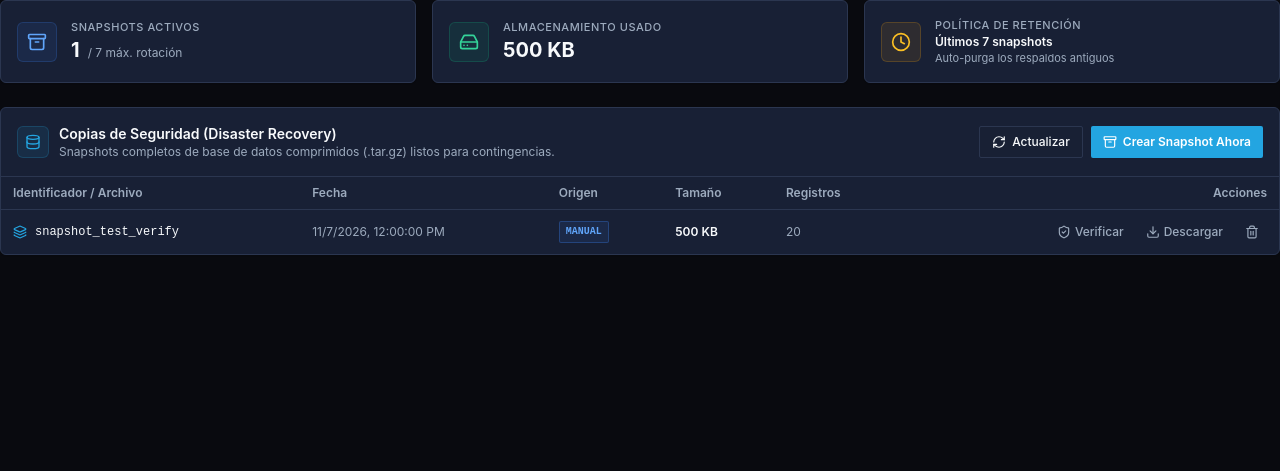
it: BackupManagerCard (Disaster Recovery) › verifies backup integrity on demand
Expected: the text "Verificar" is shown, [1075, 224, 1124, 240]
Click the button "Verificar" at (1090, 232), box [1049, 218, 1132, 246]
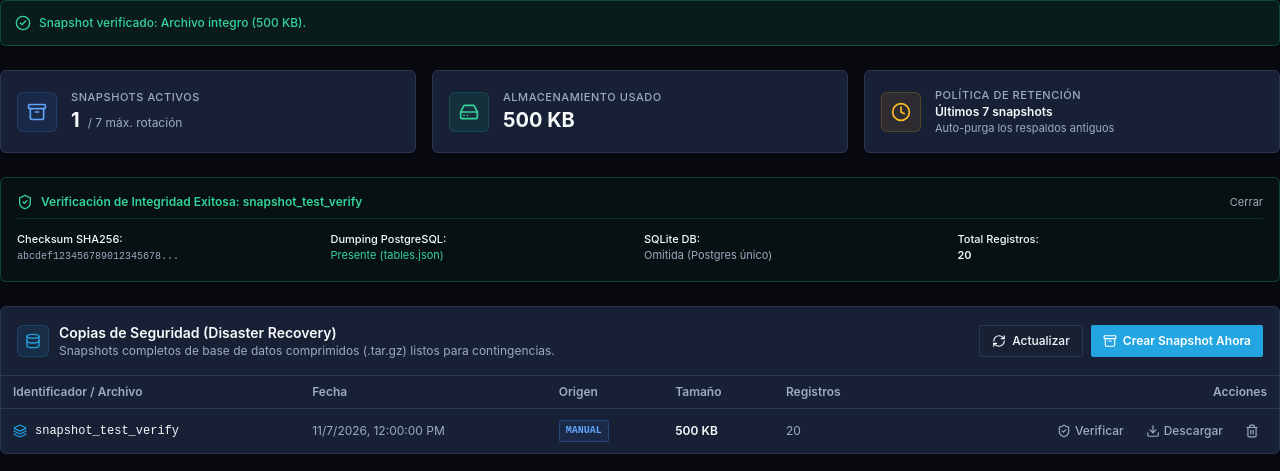
Expected: the text "Verificación de Integridad Exitosa: snapshot_test_verify" is shown, [41, 194, 362, 210]
